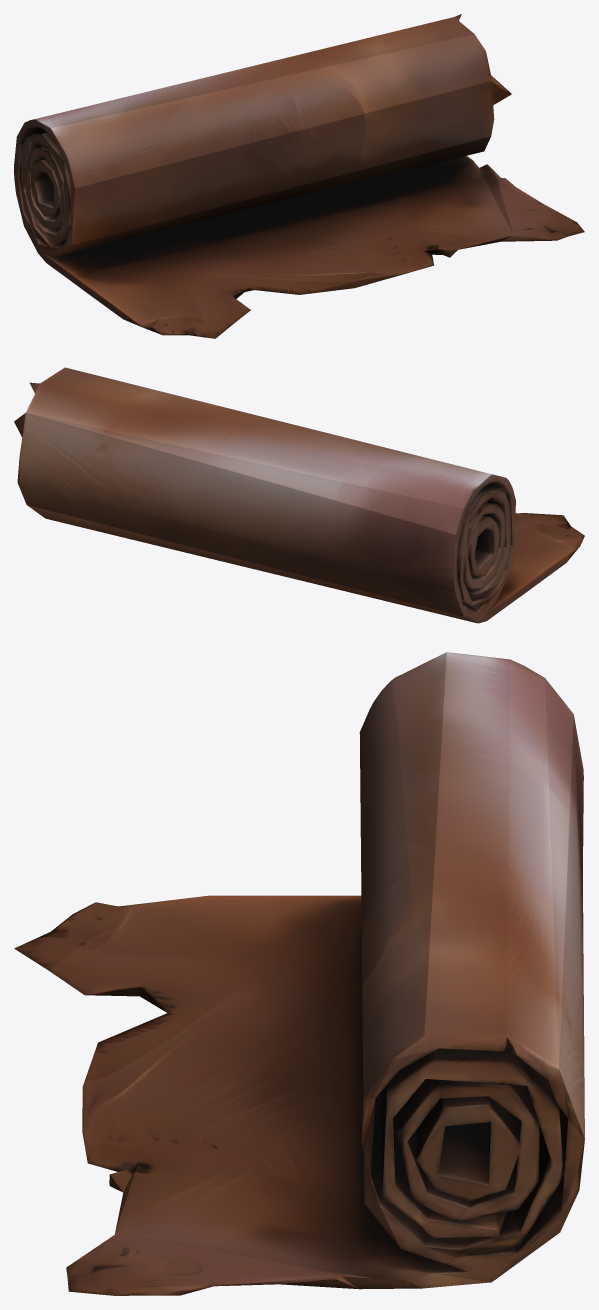
The model's file is base_basic_pbr.fbx.
3 renders of one model, top to bottom at view 1: azimuth 30°, elevation 25°; view 2: azimuth 150°, elevation 25°; view 3: azimuth 270°, elevation 25°, orthographic. The views are drawn at different scales.
Visible parts, largest first — view 1: model; view 2: model; view 3: model.
Boxes of the visible parts, box(x1,y1,x2,y2) form: model: box(14, 14, 584, 338); model: box(14, 367, 584, 623); model: box(14, 652, 584, 1295).
Size of the model in its own units: 183 by 55.11 by 111.
1 material, 1 textured.
